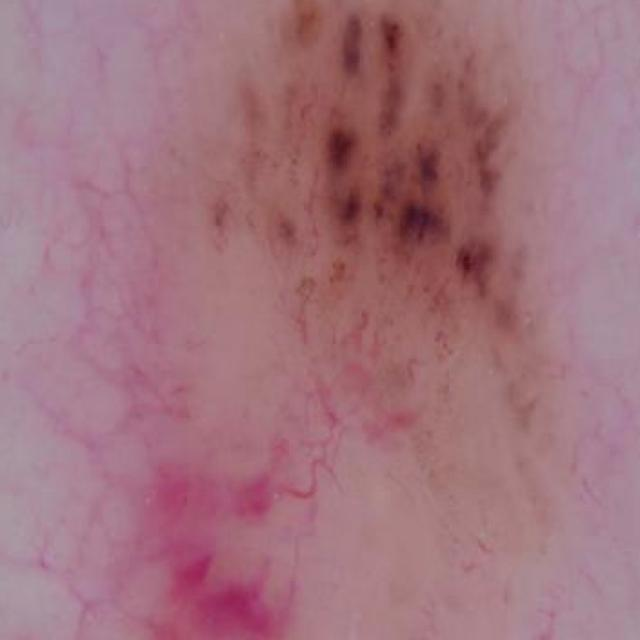BCC: (74, 0, 582, 640)
